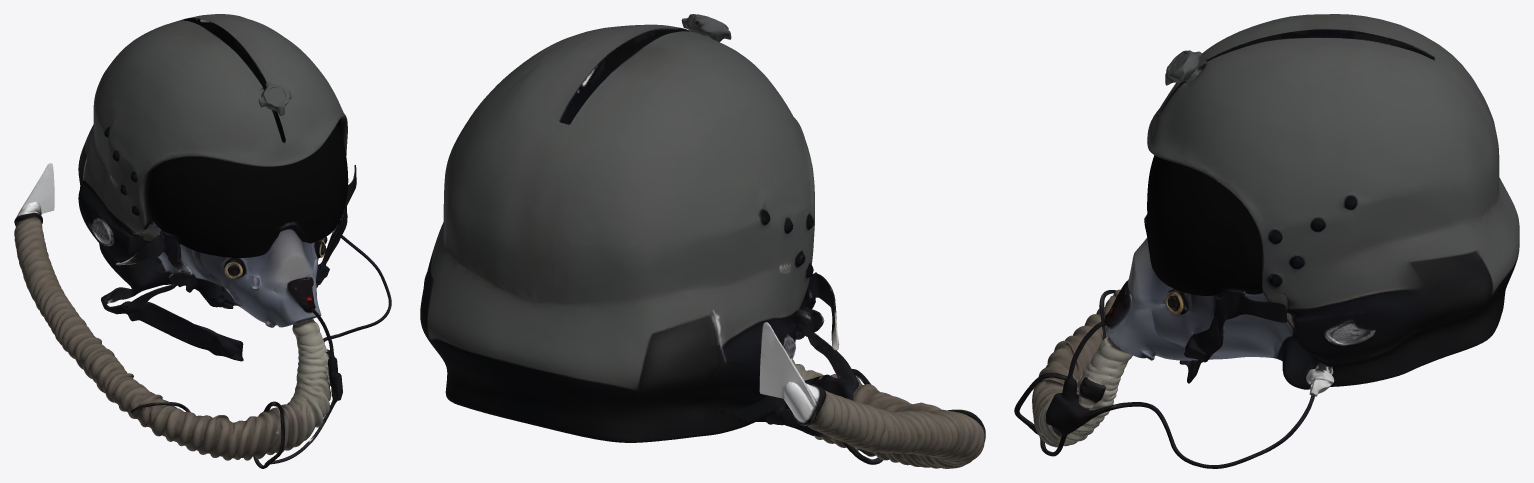
The model's file is capacete_piloto.glb.
3 views of the same model, side by side, from view 1: azimuth 30°, elevation 25°; view 2: azimuth 150°, elevation 25°; view 3: azimuth 270°, elevation 25° (orthographic). The views are drawn at different scales.
Visible parts, largest first — view 1: Object_2, Object_3; view 2: Object_2, Object_3; view 3: Object_2, Object_3.
Boxes of the visible parts, x1,y1,x2,y2 form: Object_2: (94,14,391,468); Object_3: (14,14,390,467); Object_2: (420,14,894,464); Object_3: (454,14,985,468); Object_2: (1014,14,1519,468); Object_3: (1018,16,1511,465).
Bounding box in the file's own units: 0.3601 × 0.36 × 0.3699.
Materials: 1 (1 with a texture image).
